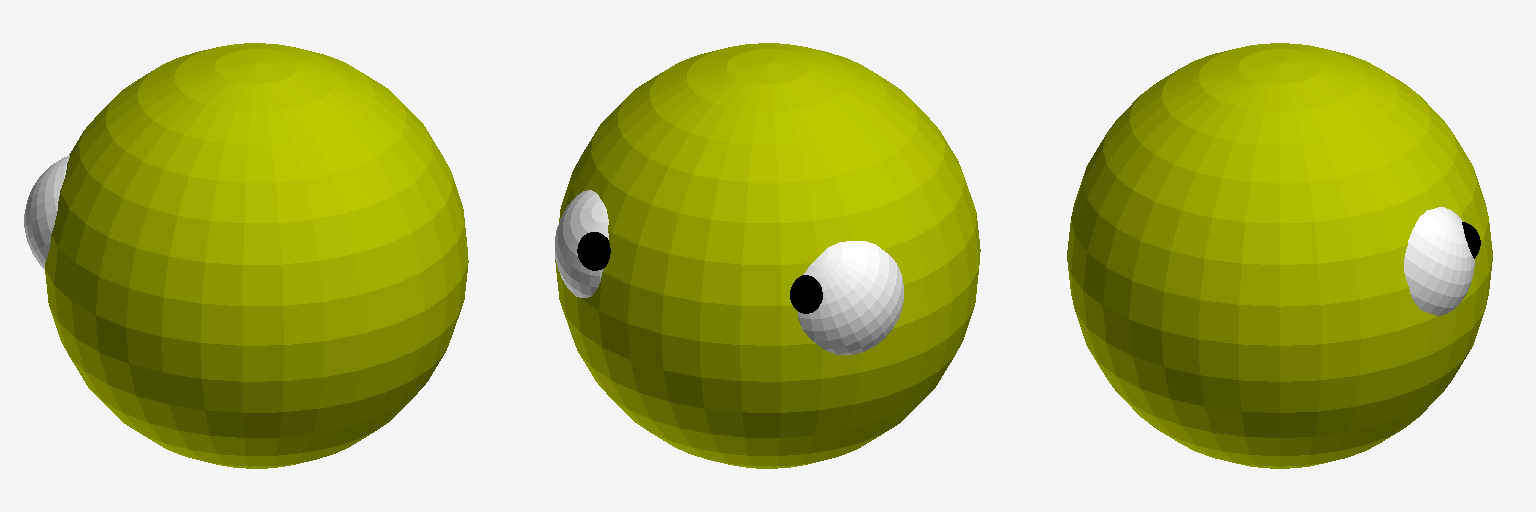
File: SnakeHead.obj
3 views of the same model, side by side, from view 1: azimuth 30°, elevation 25°; view 2: azimuth 150°, elevation 25°; view 3: azimuth 270°, elevation 25° (orthographic).
Visible parts, largest first — view 1: Сфера, Сфера.004; view 2: Сфера, Сфера.004, Сфера.001, Сфера.002, Сфера.003; view 3: Сфера, Сфера.001.
Boxes of the visible parts, x1,y1,x2,y2 form: Сфера: [45, 43, 468, 468]; Сфера.004: [24, 155, 69, 269]; Сфера: [555, 43, 980, 468]; Сфера.004: [798, 241, 903, 354]; Сфера.001: [555, 190, 608, 297]; Сфера.002: [577, 232, 610, 270]; Сфера.003: [790, 275, 822, 313]; Сфера: [1067, 43, 1492, 468]; Сфера.001: [1404, 207, 1474, 315].
Bounding box in the file's own units: 2 × 2 × 2.